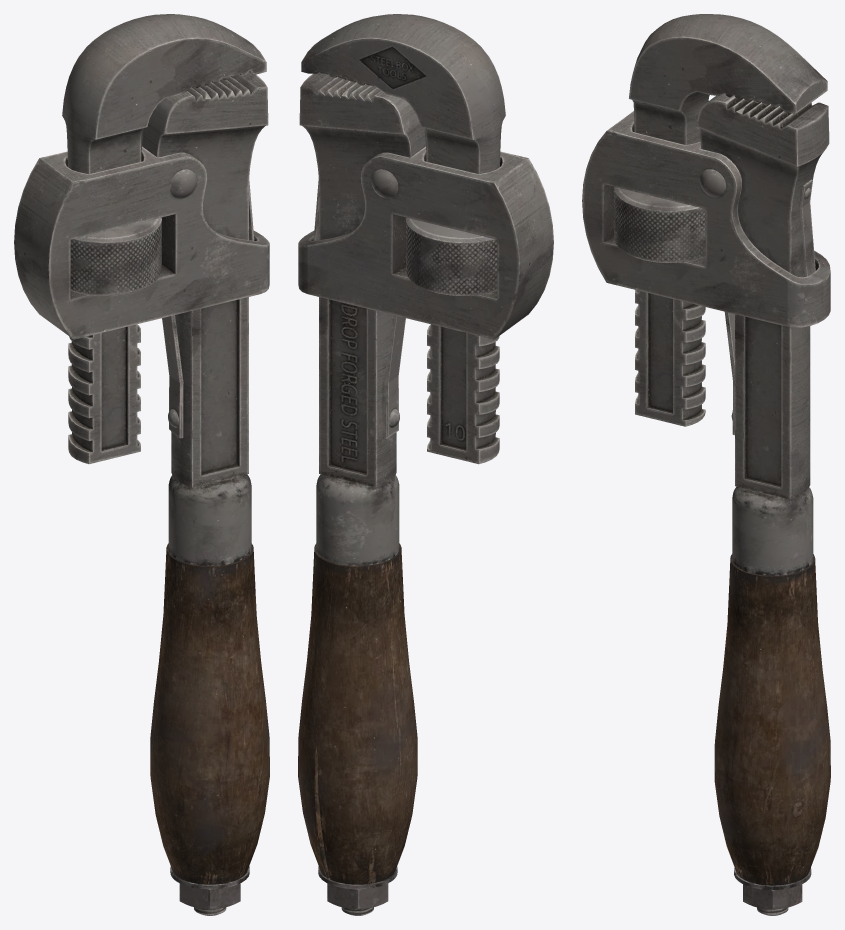
File: adjustable_wrench.glb
3 views of the same model, side by side, from view 1: azimuth 30°, elevation 25°; view 2: azimuth 150°, elevation 25°; view 3: azimuth 330°, elevation 25° (orthographic). The views are drawn at different scales.
Parts seen in each view (by area): view 1: adjustable_wrench_jaw; view 2: adjustable_wrench_jaw; view 3: adjustable_wrench_jaw.
Part boxes in pixels (left/top/right/bottom): adjustable_wrench_jaw: left=14, top=14, right=269, bottom=915; adjustable_wrench_jaw: left=298, top=14, right=553, bottom=915; adjustable_wrench_jaw: left=582, top=14, right=830, bottom=915.
Bounding box in the file's own units: 0.0684 × 0.2541 × 0.0306.
1 material, 1 textured.
